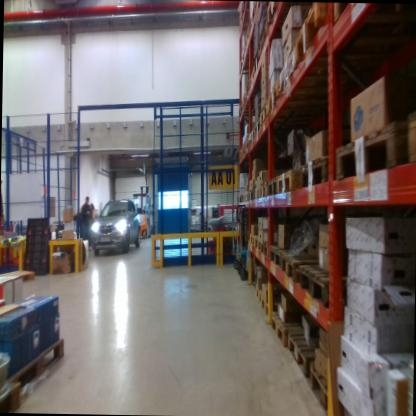forklift: (130, 178, 153, 241)
pallet: (332, 113, 407, 191), (281, 48, 359, 103), (3, 330, 69, 393), (266, 74, 351, 117), (296, 252, 351, 313), (260, 98, 340, 132), (286, 326, 334, 378), (268, 302, 310, 356), (293, 4, 328, 68), (257, 18, 308, 61), (281, 250, 314, 294), (311, 362, 336, 416), (299, 154, 332, 192), (399, 95, 416, 165), (1, 264, 35, 294), (0, 372, 25, 411), (258, 292, 284, 325), (329, 5, 365, 27), (248, 65, 275, 94), (277, 165, 303, 193), (238, 48, 259, 78), (260, 4, 291, 22), (251, 51, 275, 74), (267, 238, 283, 270), (238, 100, 268, 117), (248, 281, 268, 306), (234, 87, 259, 102), (250, 117, 264, 139), (235, 15, 252, 32), (258, 178, 270, 202), (269, 173, 279, 199), (237, 140, 246, 163), (259, 237, 268, 259), (254, 181, 263, 202), (244, 129, 252, 152), (248, 187, 256, 202), (254, 234, 260, 252), (248, 229, 253, 249), (238, 189, 244, 205), (243, 191, 249, 206), (203, 221, 213, 228), (203, 228, 212, 230)
pallet_truck: (233, 203, 251, 283), (232, 202, 243, 274), (227, 200, 238, 271)
